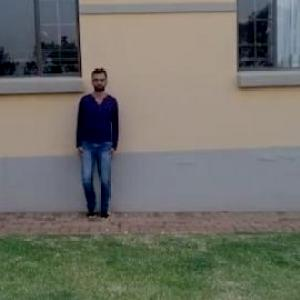follow: (73, 65, 119, 219)
